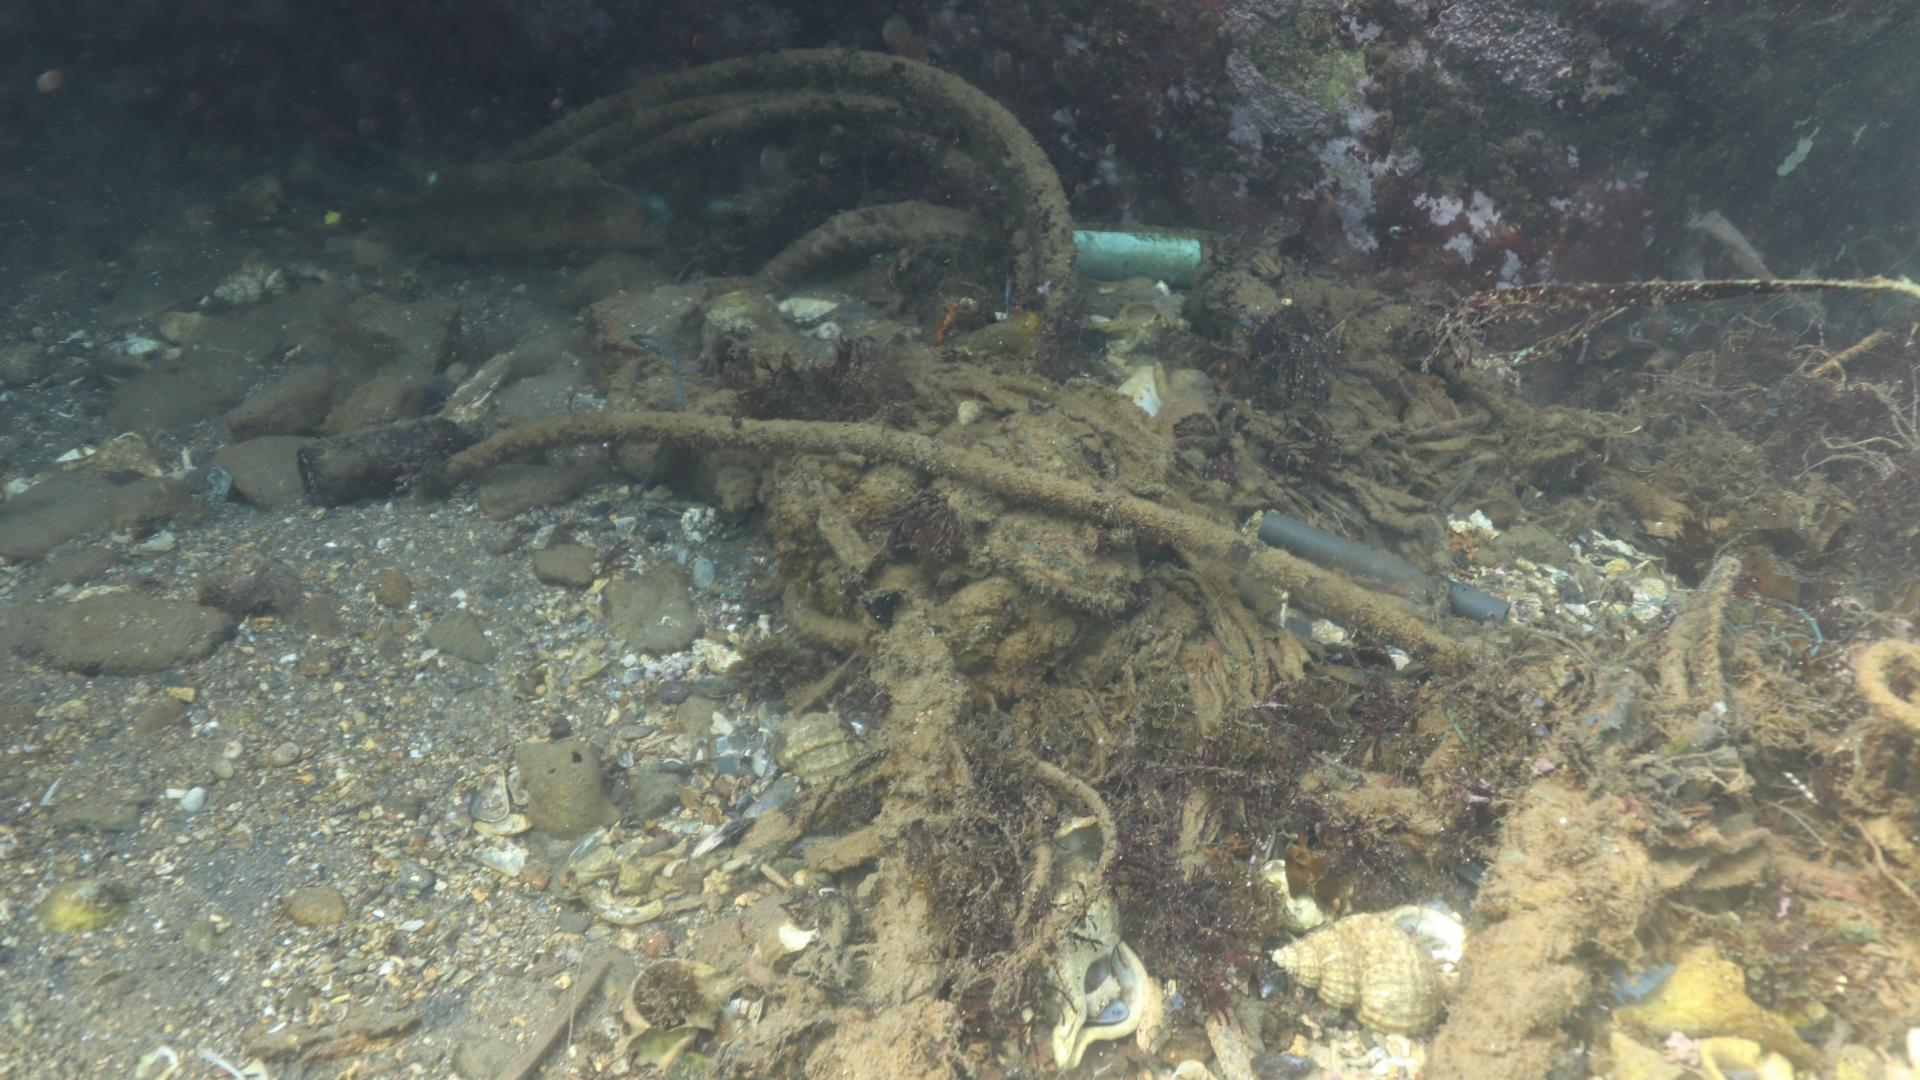bundle of ropes: (497, 44, 1076, 316)
rope: (440, 414, 1461, 673)
